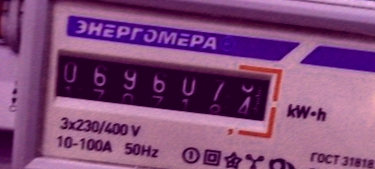0: (60, 57, 79, 83), (179, 70, 197, 96)
4: (234, 92, 253, 117)
6: (89, 61, 109, 87), (149, 67, 169, 93)
7: (208, 75, 226, 103)
9: (119, 65, 138, 90)
screen: (37, 33, 287, 136)
